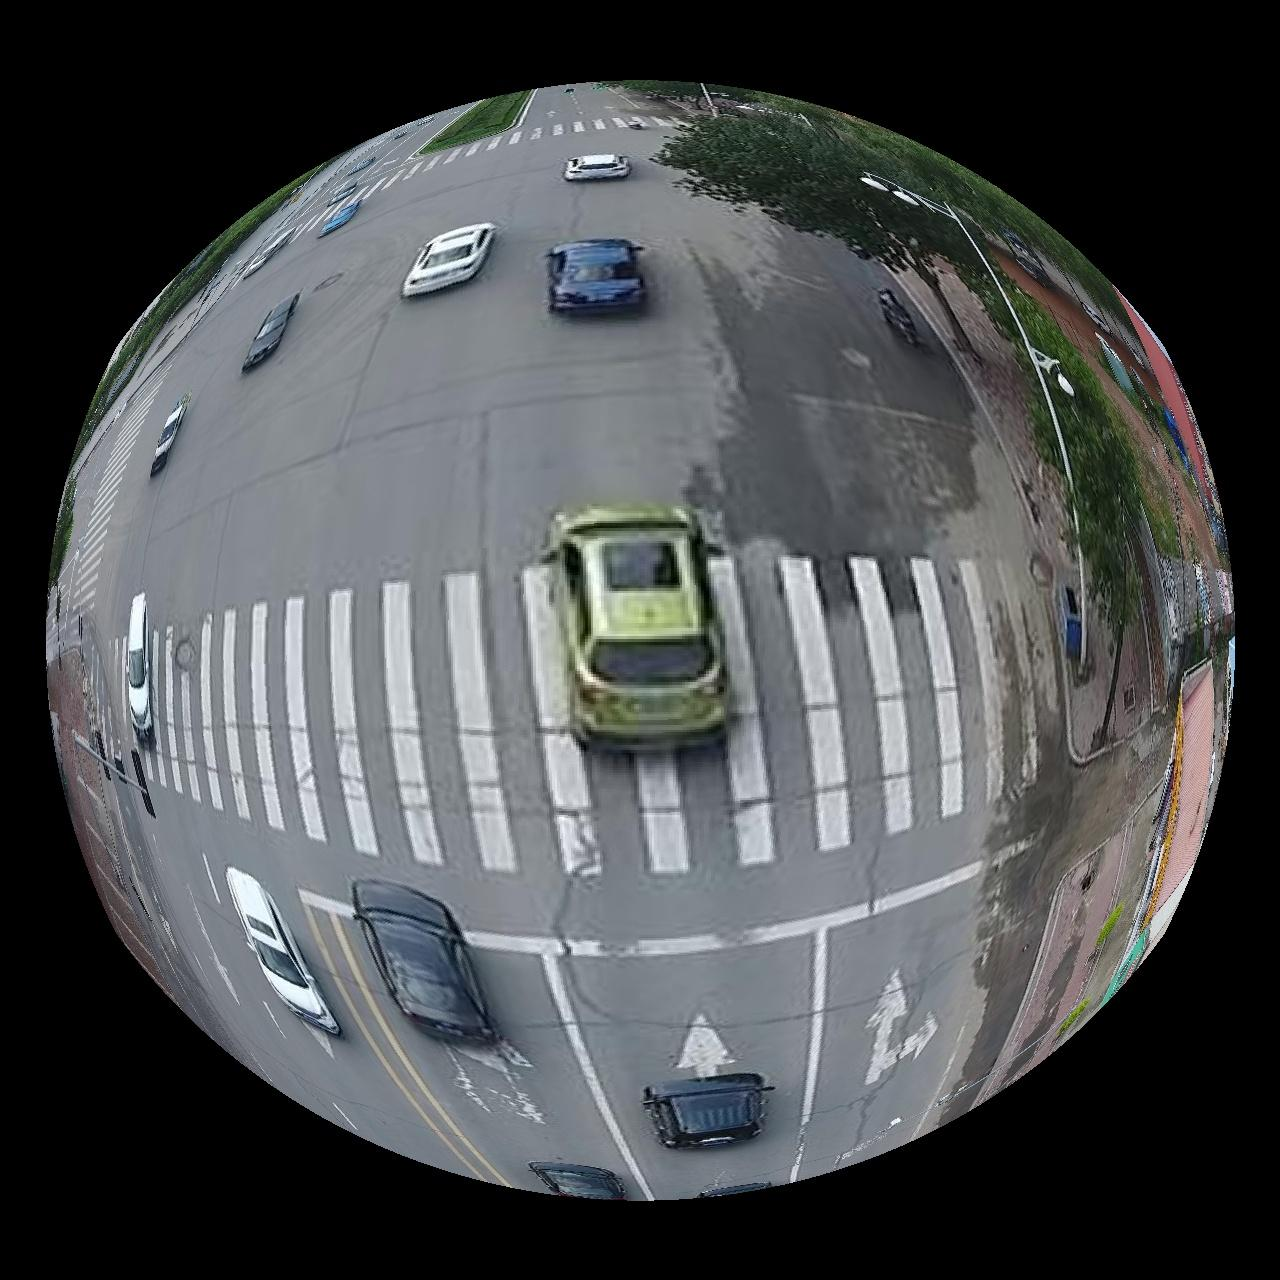cars: (540, 504, 728, 750), (352, 881, 498, 1042), (225, 869, 340, 1036), (644, 1075, 775, 1150), (549, 237, 647, 312), (402, 222, 498, 297), (241, 291, 298, 372), (123, 592, 152, 741), (530, 1165, 626, 1201), (148, 393, 188, 477), (563, 151, 632, 181)
trees: (659, 98, 1145, 611)
